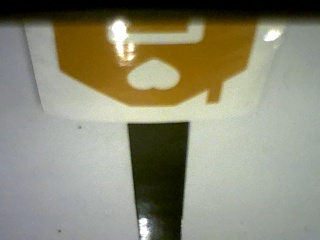Rescue_Station: (53, 21, 256, 109)
